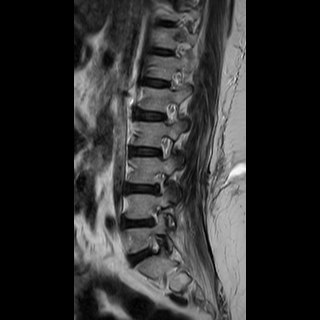RFS0: (157, 96, 179, 129), (153, 130, 174, 164)
RFS2: (150, 168, 171, 202)
